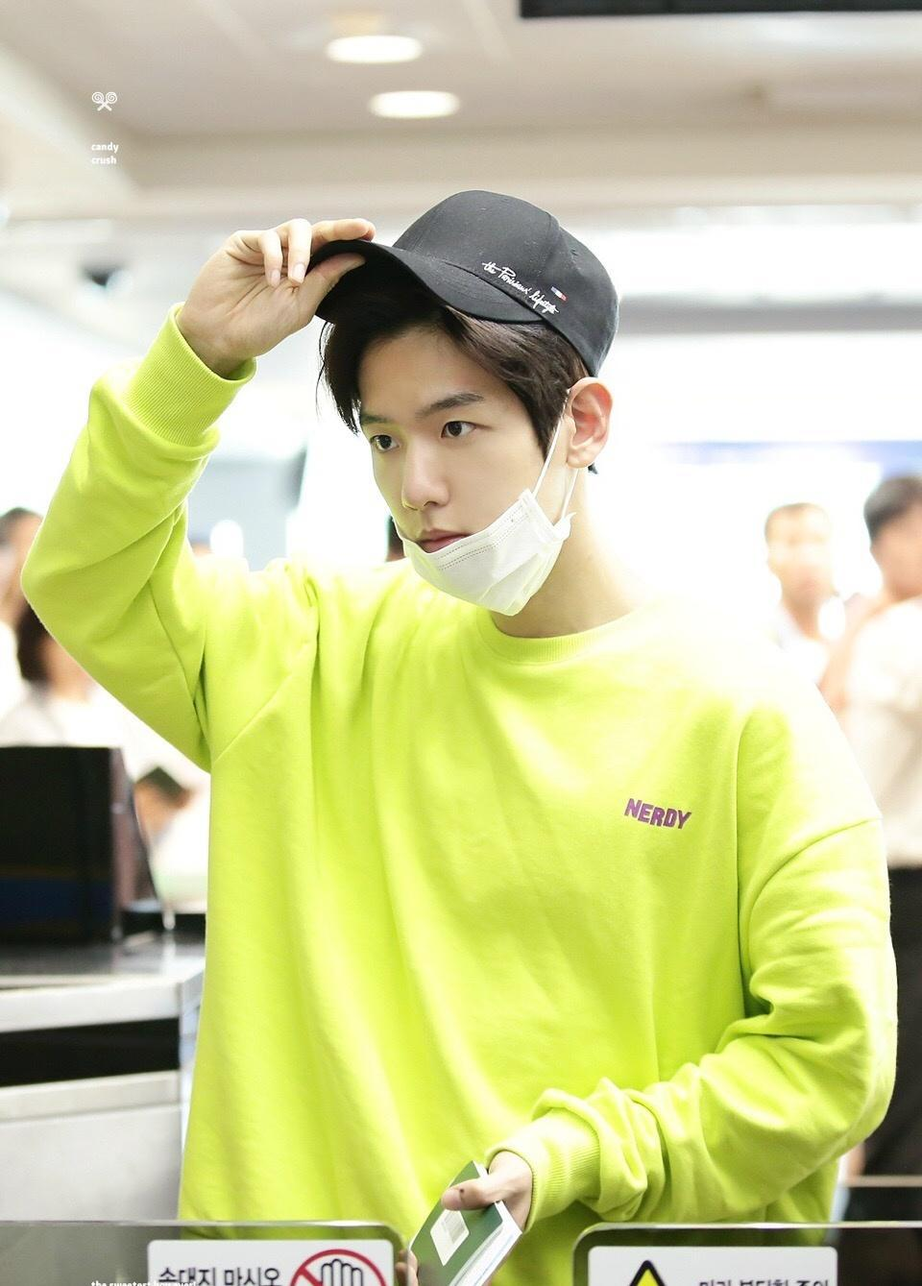WRONG: (362, 375, 586, 598)
